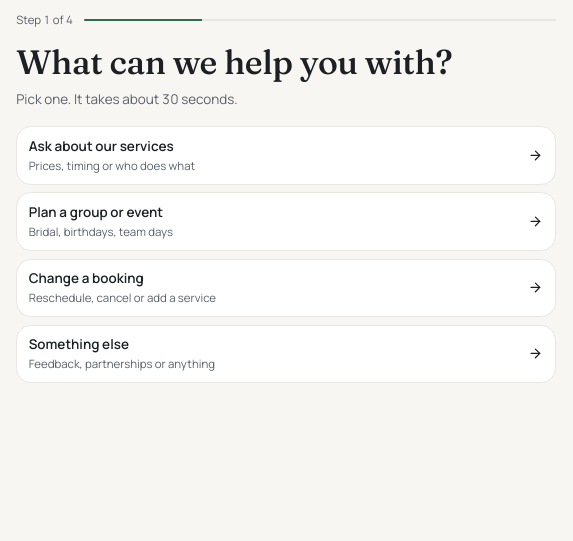
Scenario: StorefrontEnquiryForm › surfaces the server’s message and keeps the answers when sending fails
Click the button "Ask about our services Prices, timing or who does what": (101, 146) [16,126,556,185]
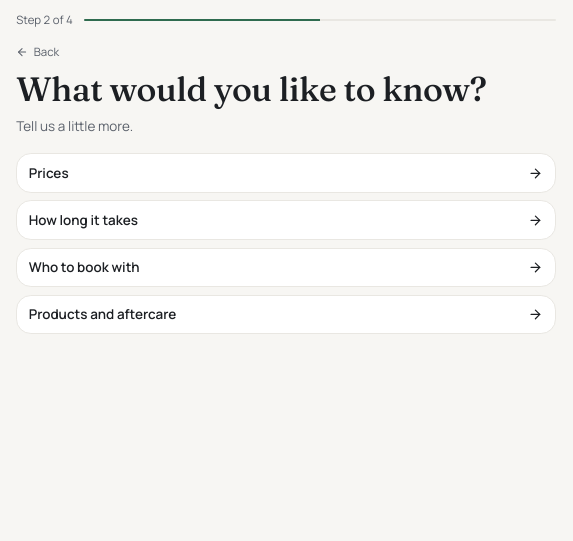
Click the button "Prices": (49, 173) [16,153,556,193]
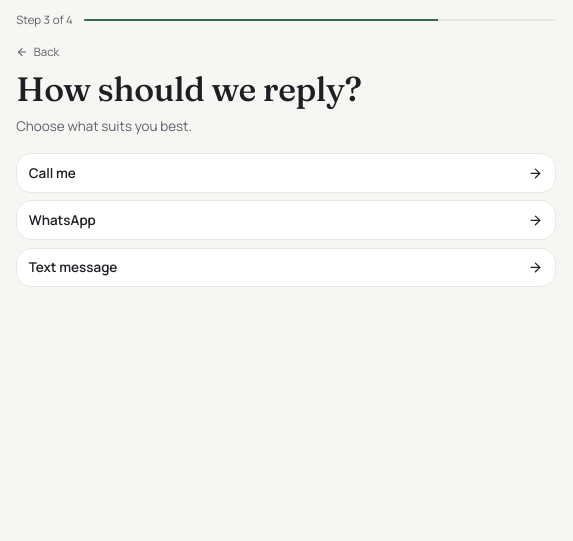
Click the button "Call me": (52, 173) [16,153,556,193]
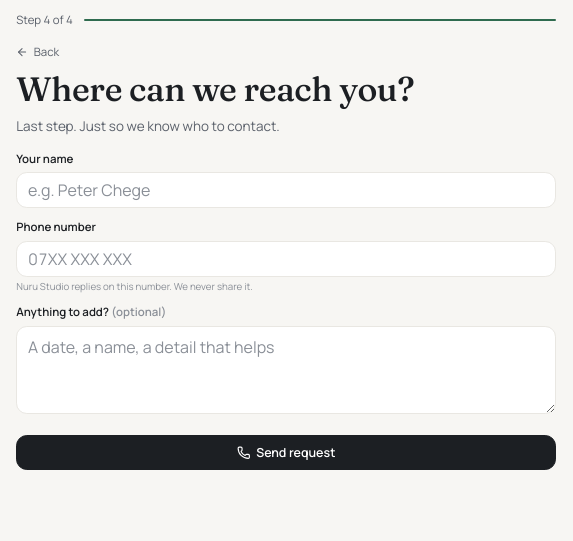
In the field labelled "Your name": (286, 190) [16,172,556,208], type "Peter Chege"
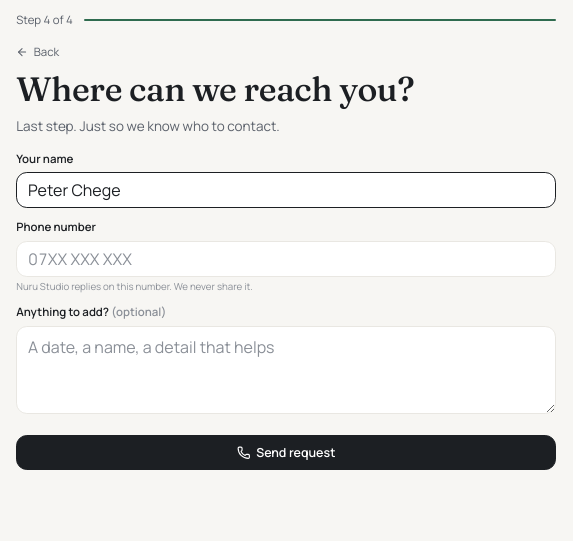
In the field labelled "Phone number": (286, 259) [16,241,556,277], type "0712345678"
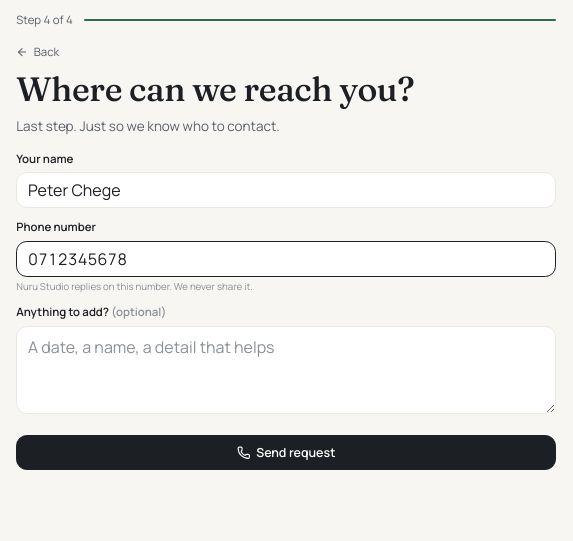
Click the button "Send request": (286, 453) [16,435,556,470]
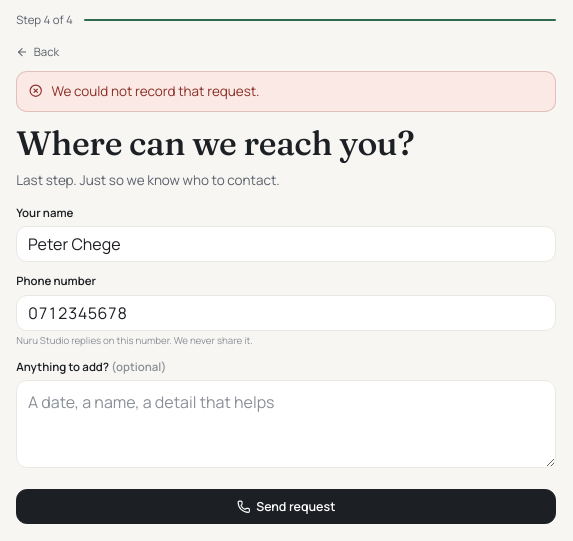
Check: the text "Step 4 of 4" is shown, box [16,12,73,28]
Check: the text "We could not record that request." is shown, box [52,82,260,100]
